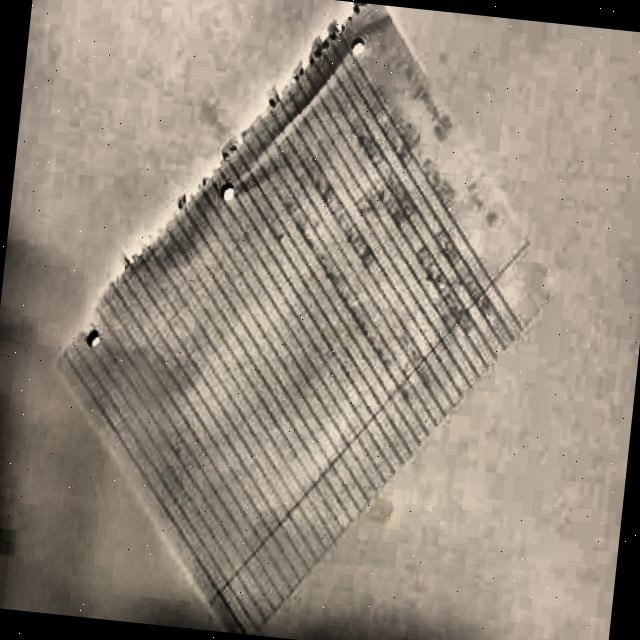paper: (35, 0, 575, 640)
